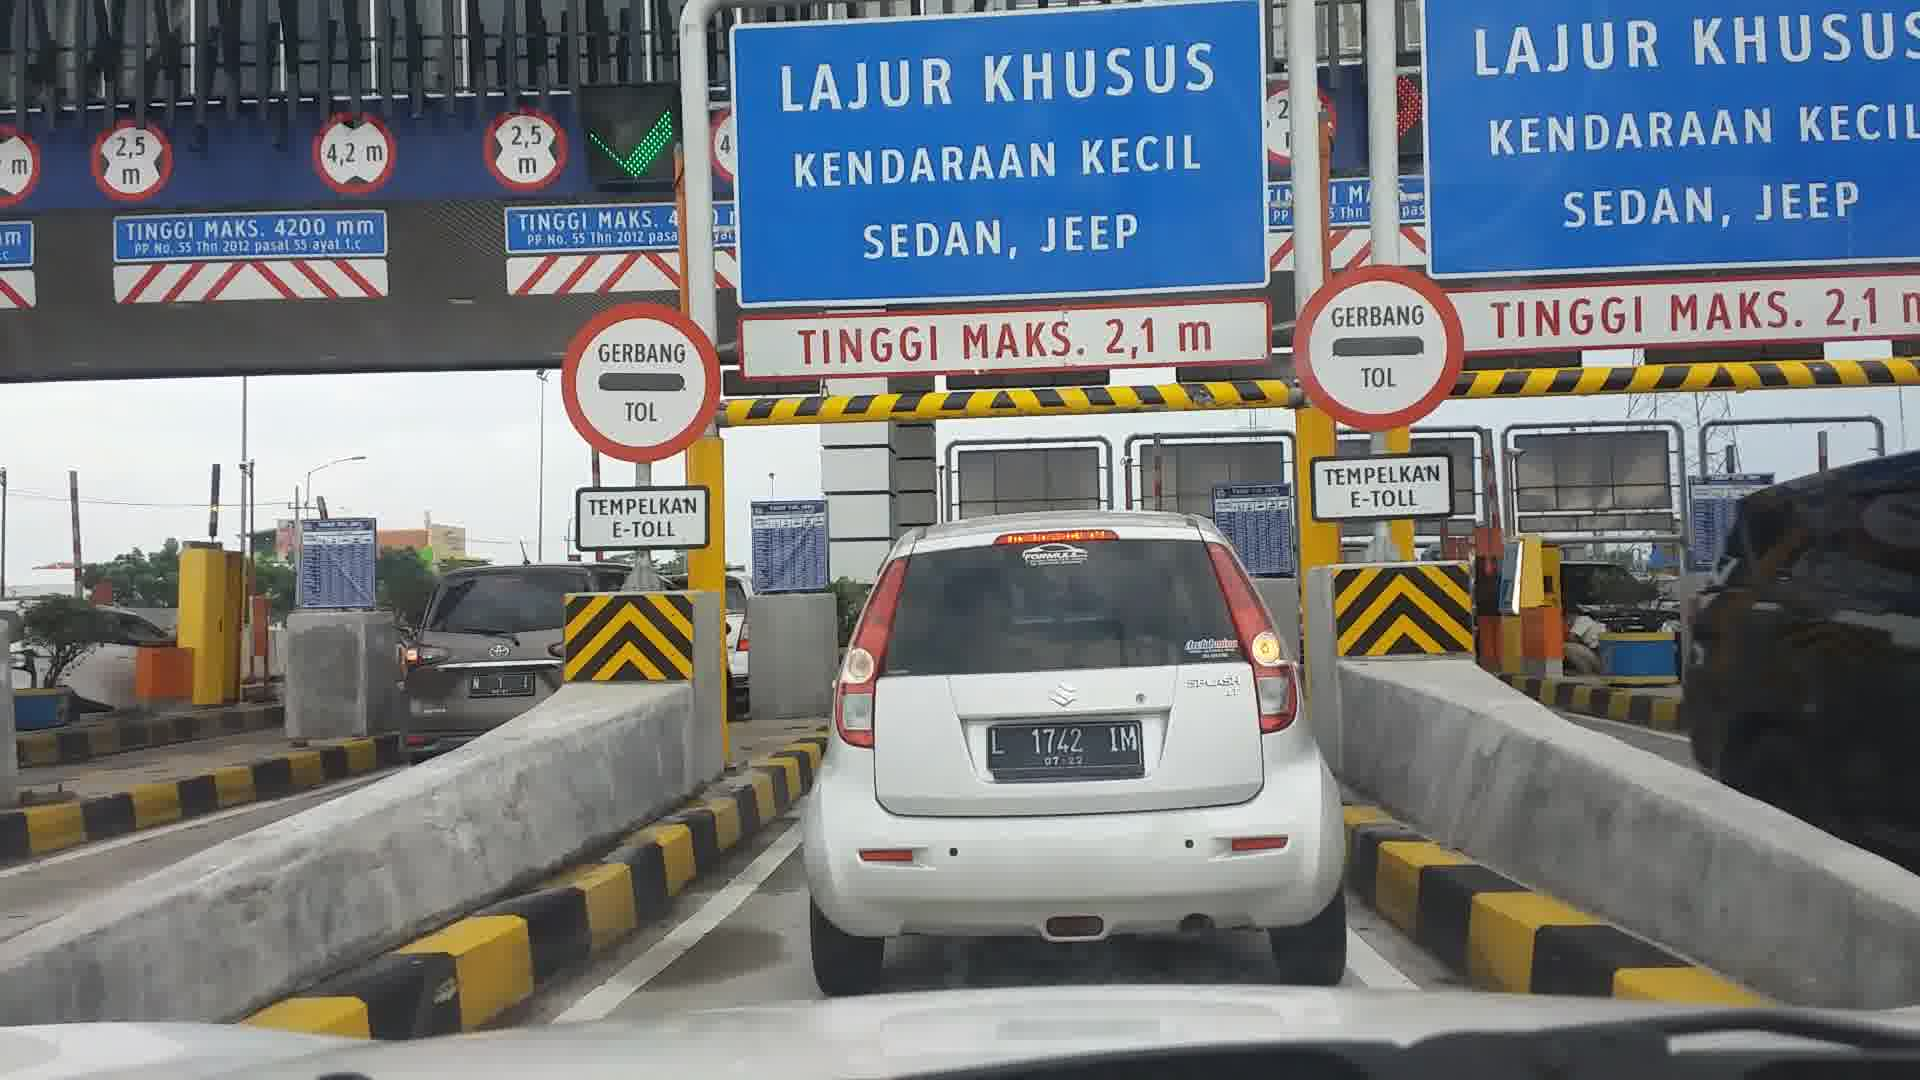plate_positive: (986, 723, 1145, 778), (469, 673, 535, 696)
